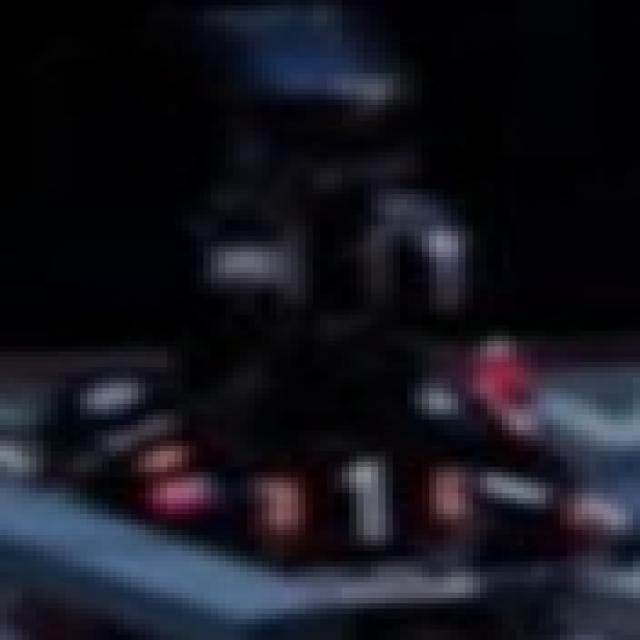R1: (262, 451, 458, 540)
